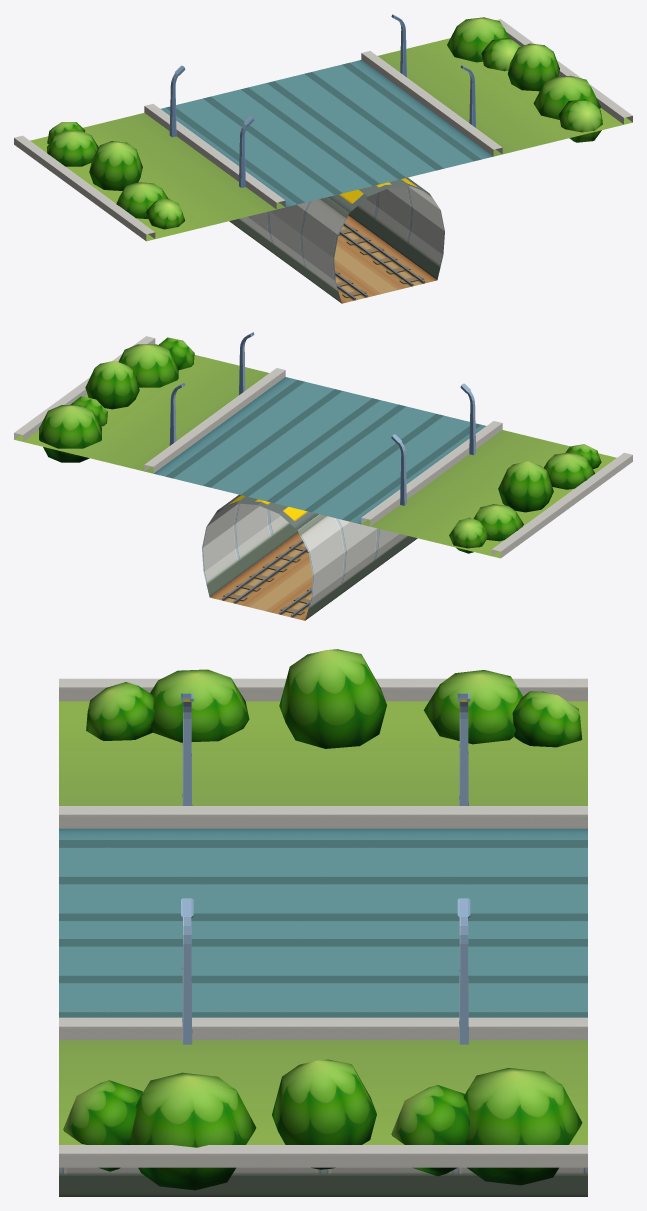
The model's file is Tunnel02_02.FBX.
3 views of the same model, one above another, from view 1: azimuth 30°, elevation 25°; view 2: azimuth 150°, elevation 25°; view 3: azimuth 270°, elevation 25° (orthographic). The views are drawn at different scales.
Parts seen in each view (by area): view 1: Tunnel, Rail (×2); view 2: Tunnel, Rail (×2); view 3: Tunnel.
Part boxes in pixels (x1,y1,x2,y2): Tunnel: (14, 14, 632, 303); Rail (×2): (334, 215, 436, 303); Tunnel: (14, 332, 632, 620); Rail (×2): (210, 532, 312, 620); Tunnel: (59, 649, 587, 1196).
Size of the model in its own units: 3400 by 1183 by 1600.
